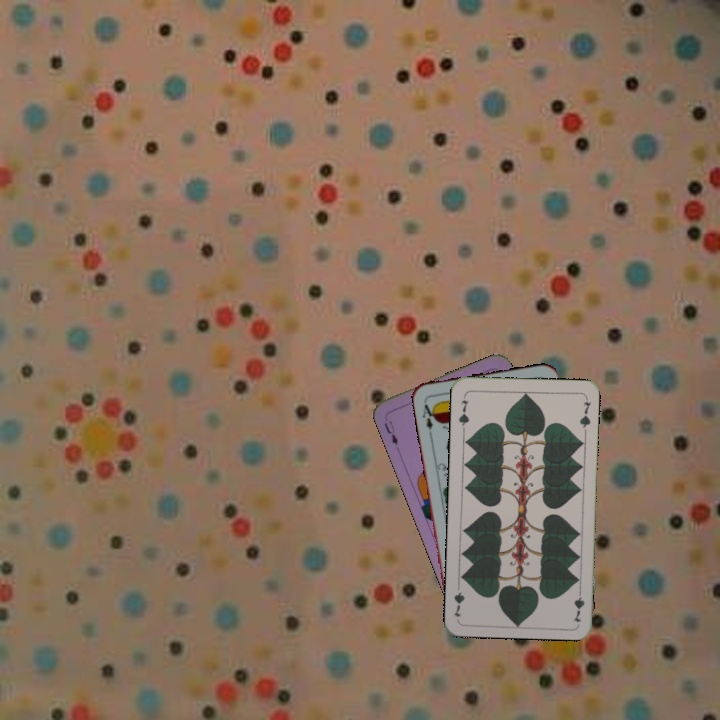EA: (418, 397, 439, 437)
EU: (380, 417, 401, 447)
G7: (455, 391, 472, 432), (570, 583, 587, 624)
